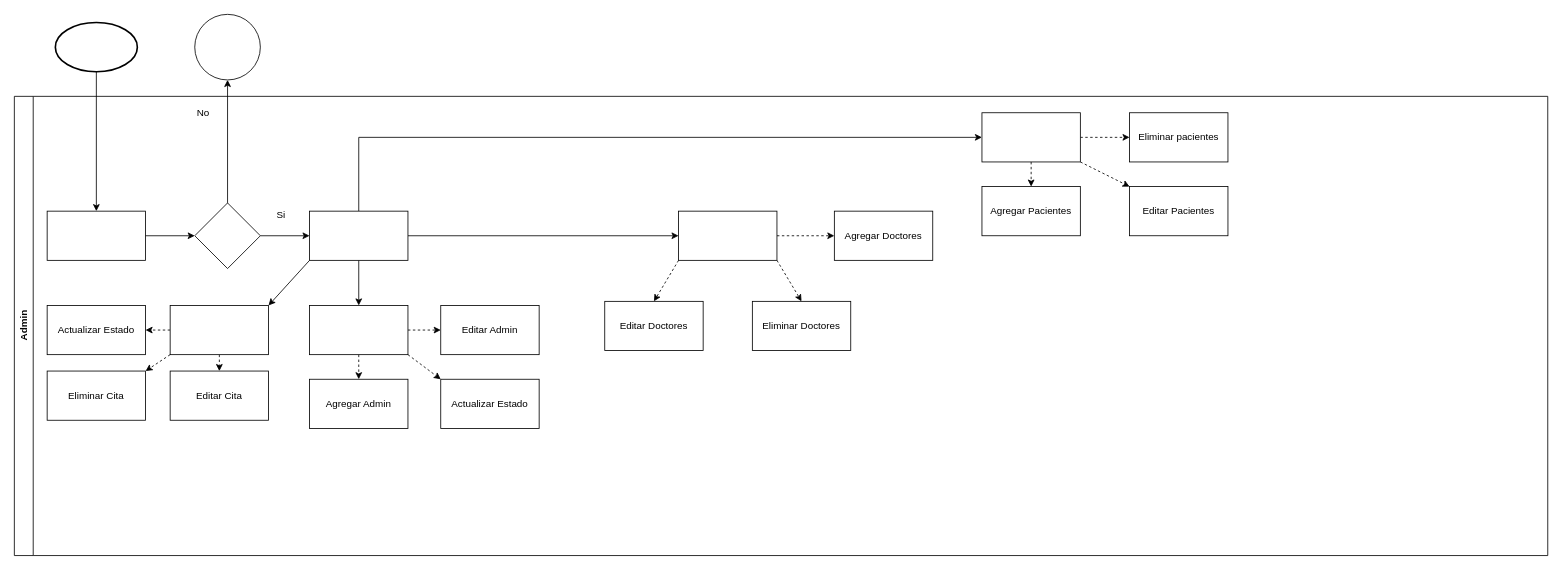
Some shapes in this 1562 by 570 pixel diagram are drawn without their labels. Here are the shapes that lost their labels. From the top down, the box of each, then its label:
(194, 14, 260, 80): Fin
(981, 112, 1080, 162): Gestión De Pacientes
(46, 210, 146, 260): Ingresa al Login
(309, 210, 408, 260): Ingresa al panel de Control
(678, 210, 777, 260): Gestión de Doctores
(169, 305, 269, 355): Gestión de Citas
(309, 305, 408, 355): Gestión de Admins
